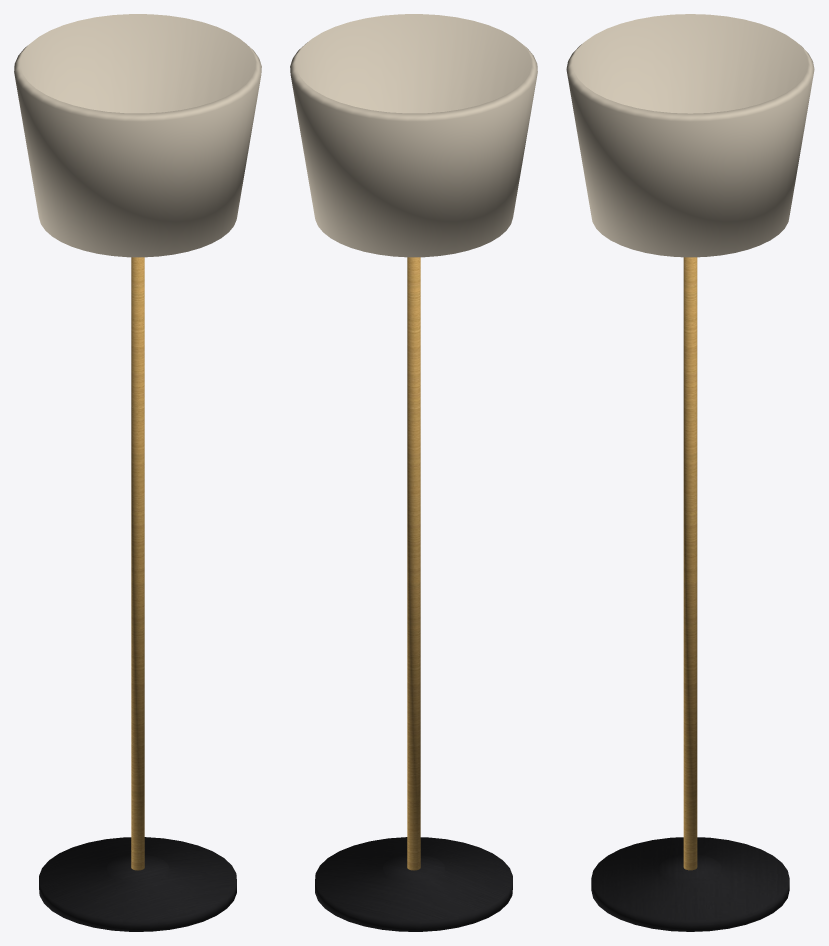
Rendered from study_floor_lamp.glb.
3 renders of one model, left to right at view 1: azimuth 30°, elevation 25°; view 2: azimuth 150°, elevation 25°; view 3: azimuth 270°, elevation 25°, orthographic.
Visible parts, largest first — view 1: study_floor_lamp; view 2: study_floor_lamp; view 3: study_floor_lamp.
Part boxes in pixels (x1,y1,x2,y2): study_floor_lamp: (14, 14, 261, 931); study_floor_lamp: (290, 14, 537, 931); study_floor_lamp: (566, 14, 814, 931).
Size of the model in its own units: 0.4 by 1.47 by 0.4.
Materials: 4 (2 with a texture image).
